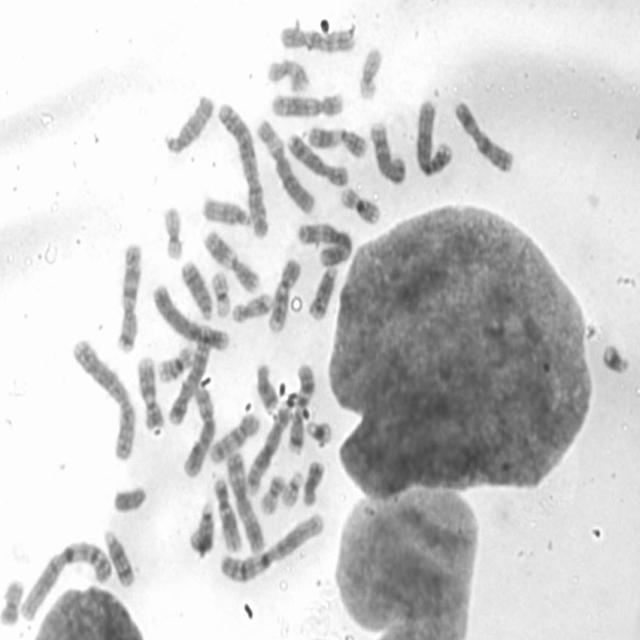A1: (19, 538, 114, 622), (217, 514, 325, 586)
A2: (70, 337, 138, 463), (217, 100, 271, 240)
A3: (226, 452, 267, 554), (296, 221, 355, 268)
B4: (152, 282, 231, 352), (416, 100, 454, 178)
B5: (166, 323, 214, 426), (245, 407, 293, 497)
C10: (208, 410, 261, 466), (278, 22, 359, 54)
C11: (202, 232, 261, 292), (307, 124, 368, 162)
C12: (213, 478, 245, 552), (270, 91, 346, 119)
C6: (255, 118, 315, 215), (182, 385, 216, 476)
C7: (119, 240, 142, 356), (288, 361, 314, 457)
C8: (286, 130, 350, 189), (371, 119, 407, 185)
C9: (268, 256, 302, 331), (134, 352, 166, 430)
D13: (179, 259, 214, 321), (190, 500, 214, 553)
D14: (104, 529, 137, 590), (307, 264, 340, 321)
D15: (162, 92, 214, 156), (200, 195, 253, 228)
E16: (339, 185, 381, 226), (156, 344, 196, 386)
E17: (267, 60, 312, 94), (231, 292, 274, 324)
E18: (255, 362, 278, 413), (302, 461, 326, 509)
F19: (356, 48, 385, 101), (160, 205, 187, 261)
F20: (0, 579, 24, 627), (260, 474, 287, 516)
G21: (602, 341, 633, 379), (307, 421, 332, 447)
G22: (210, 268, 232, 321), (280, 468, 304, 509)
X: (452, 100, 517, 176)
Y: (113, 485, 148, 514)
